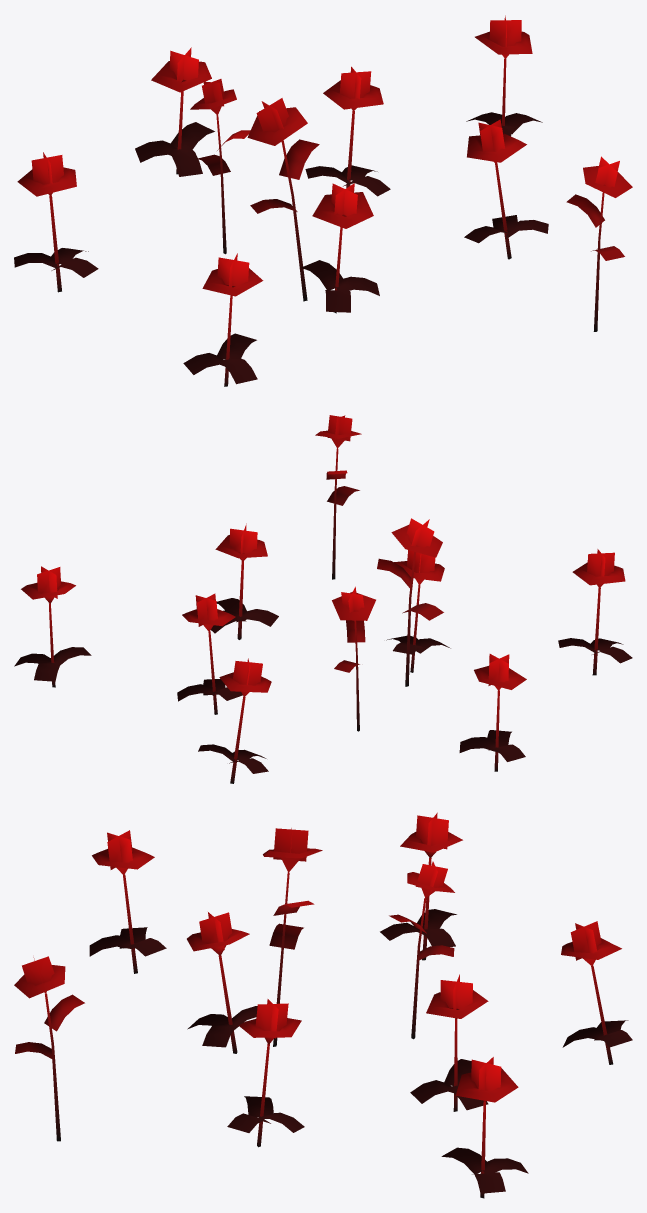
File: SM_Flower6_Group.fbx
3 renders of one model, top to bottom at view 1: azimuth 30°, elevation 25°; view 2: azimuth 150°, elevation 25°; view 3: azimuth 270°, elevation 25°, orthographic. The views are drawn at different scales.
Parts seen in each view (by area): view 1: Flower6 Group; view 2: Flower6 Group; view 3: Flower6 Group.
Boxes of the visible parts, <box> form: Flower6 Group: <box>14,15,632,386</box>; Flower6 Group: <box>14,415,632,783</box>; Flower6 Group: <box>14,812,632,1198</box>.
Bounding box in the file's own units: 1.56 × 0.5434 × 1.46.
